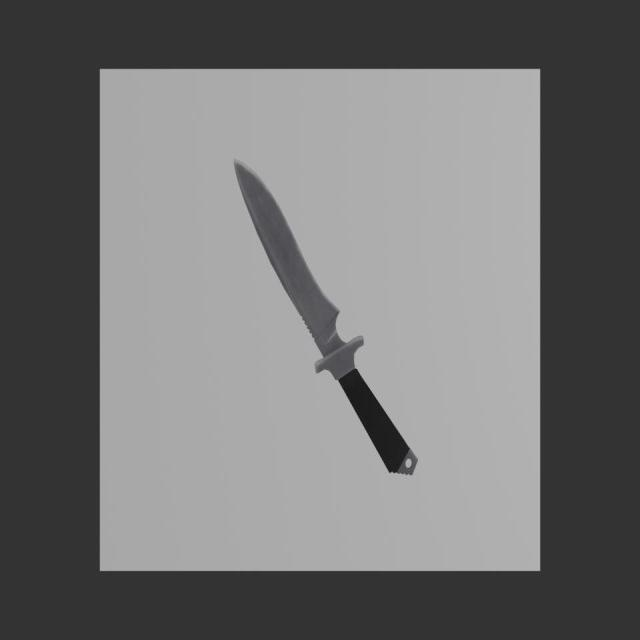knife: (338, 368, 418, 475)
